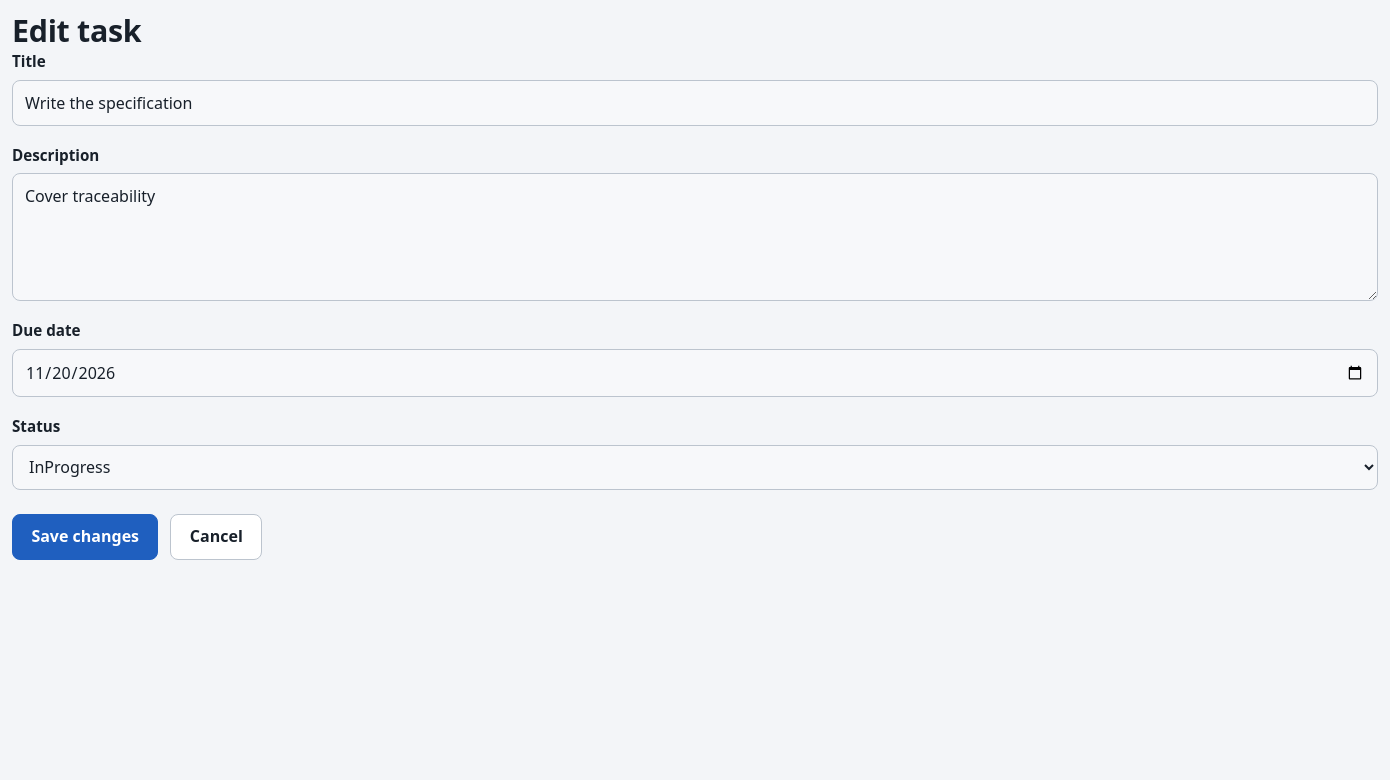
Test: TaskForm in edit mode › shows a server validation error against the field it belongs to
Replace the text in the field labelled "Title" with "x". click: (695, 103)
box: [12,80,1378,126]
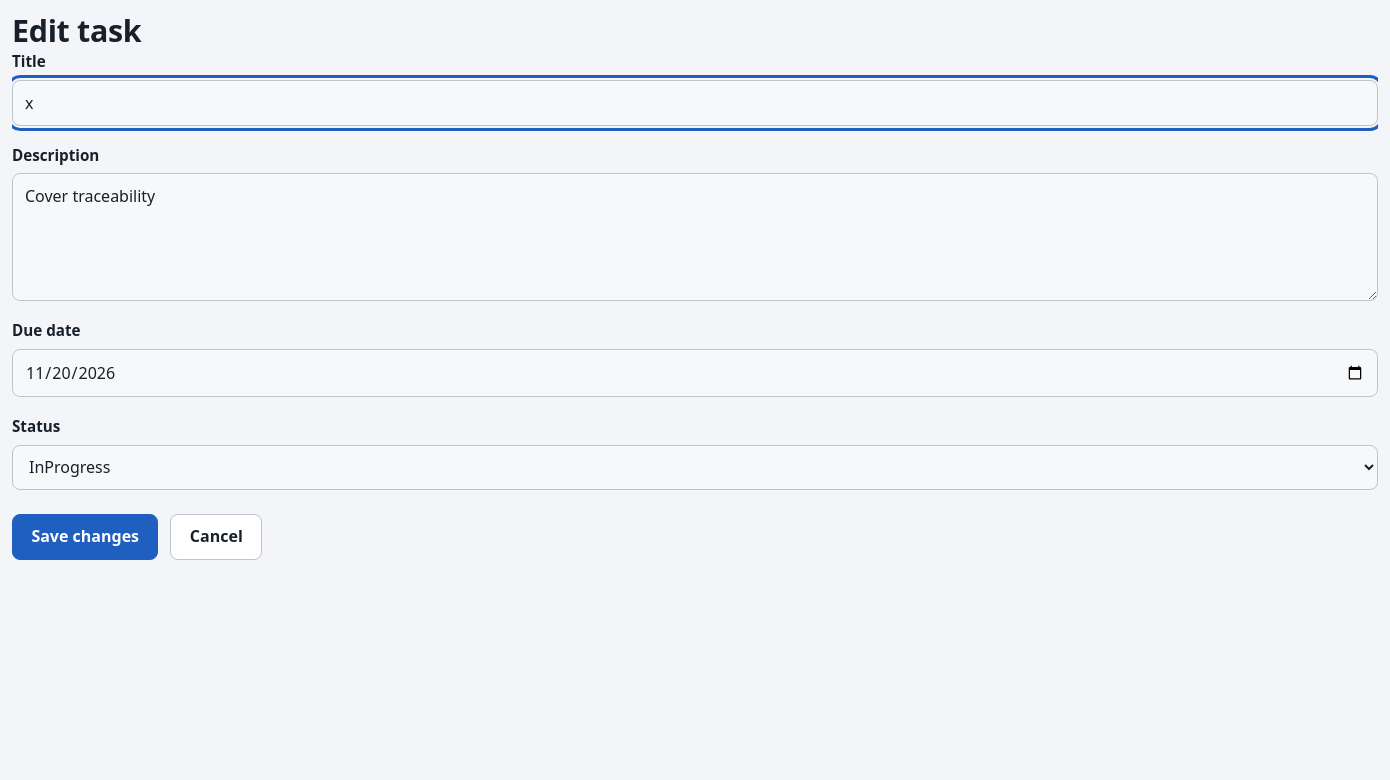
Click the button "Save changes". click: (85, 537)
box: [12,514,158,560]
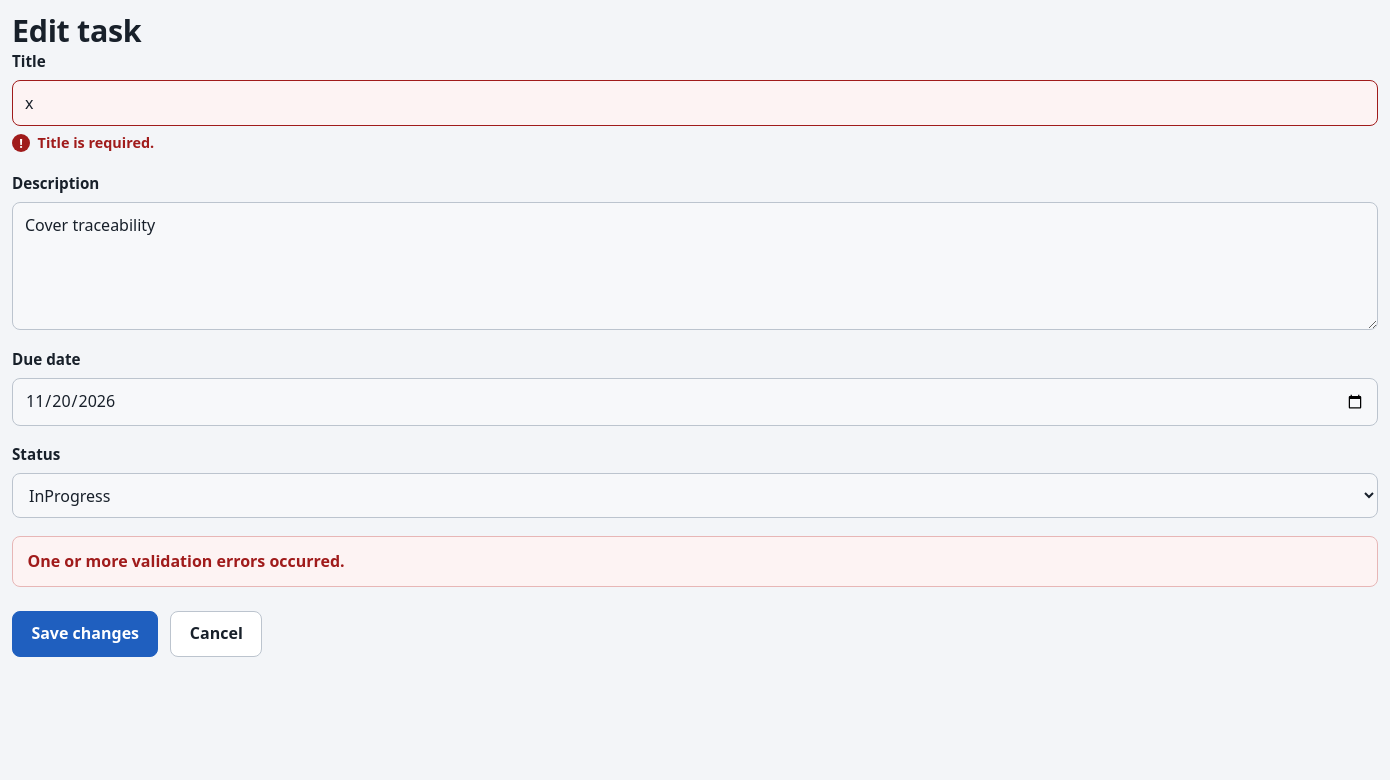
Result: the text "Title is required." is shown at [38,133,154,152]
